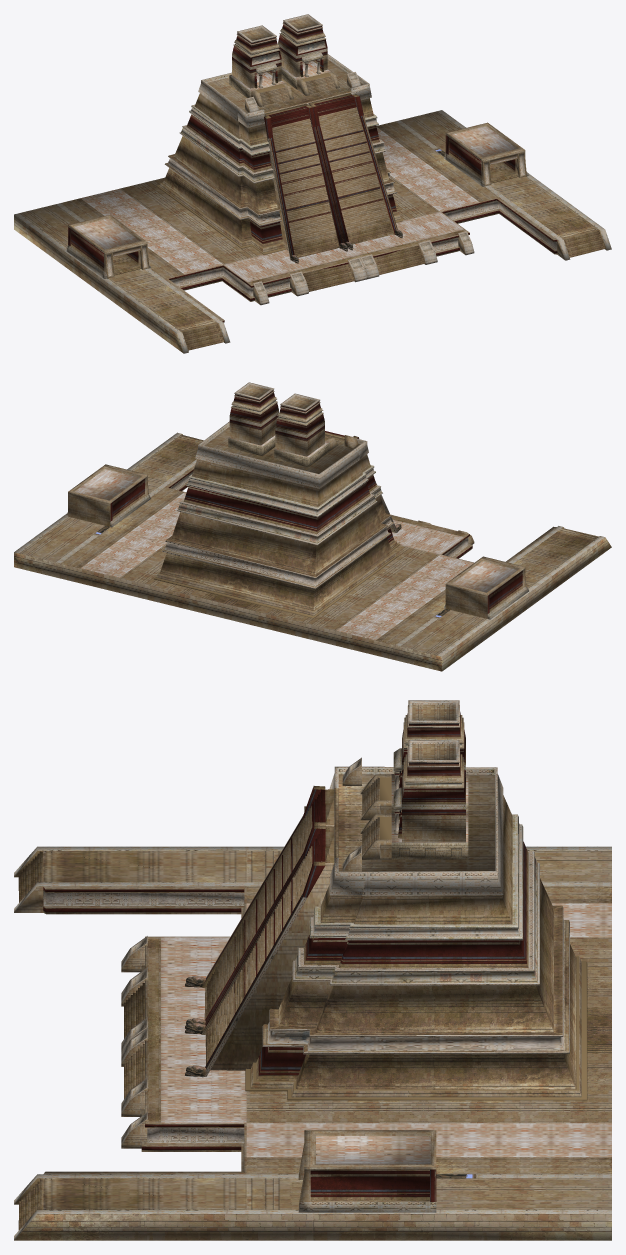
The model's file is mayanpyramidthree.dae.
3 renders of one model, top to bottom at view 1: azimuth 30°, elevation 25°; view 2: azimuth 150°, elevation 25°; view 3: azimuth 270°, elevation 25°, orthographic. The views are drawn at different scales.
Visible parts, largest first — view 1: meshU3D; view 2: meshU3D; view 3: meshU3D.
Boxes of the visible parts, x1,y1,x2,y2 form: meshU3D: (14, 14, 611, 353); meshU3D: (14, 382, 611, 671); meshU3D: (14, 700, 611, 1240).
Bounding box in the file's own units: 3099 × 1285 × 2131.
Materials: 5 (5 with a texture image).
